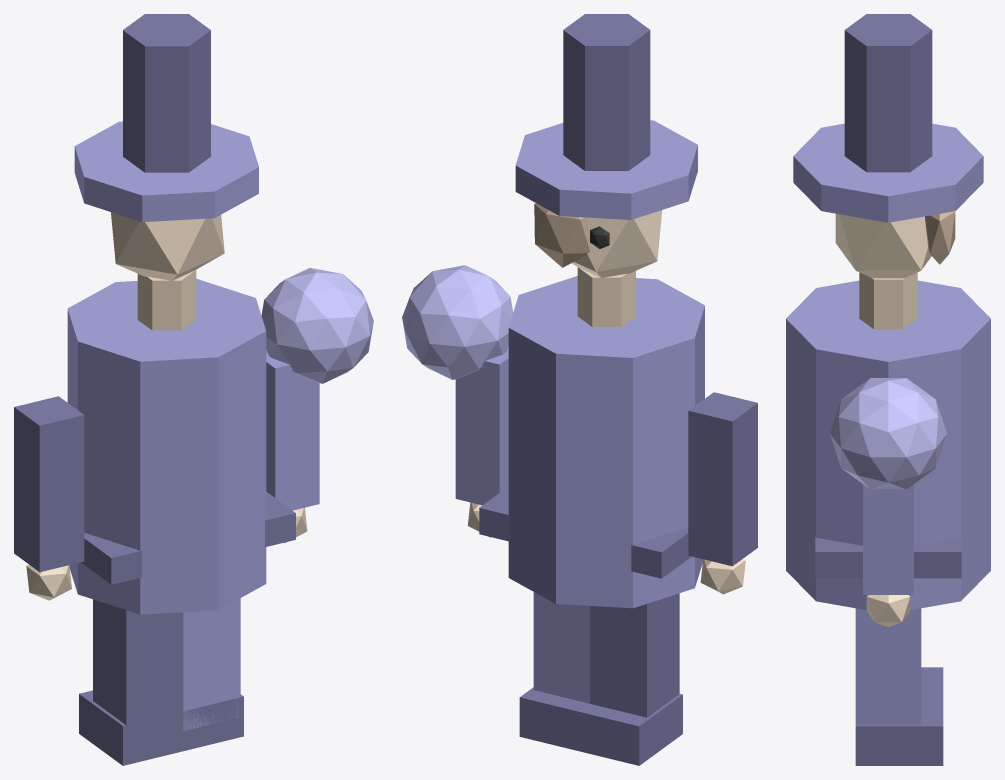
File: oracle.glb
3 views of the same model, side by side, from view 1: azimuth 30°, elevation 25°; view 2: azimuth 150°, elevation 25°; view 3: azimuth 270°, elevation 25° (orthographic).
Parts seen in each view (by area): view 1: oracle; view 2: oracle; view 3: oracle.
Part boxes in pixels (<box>): oracle: <box>14,14,373,765</box>; oracle: <box>402,14,757,765</box>; oracle: <box>786,14,990,765</box>.
Size of the model in its own units: 1.06 by 2.13 by 0.56.
